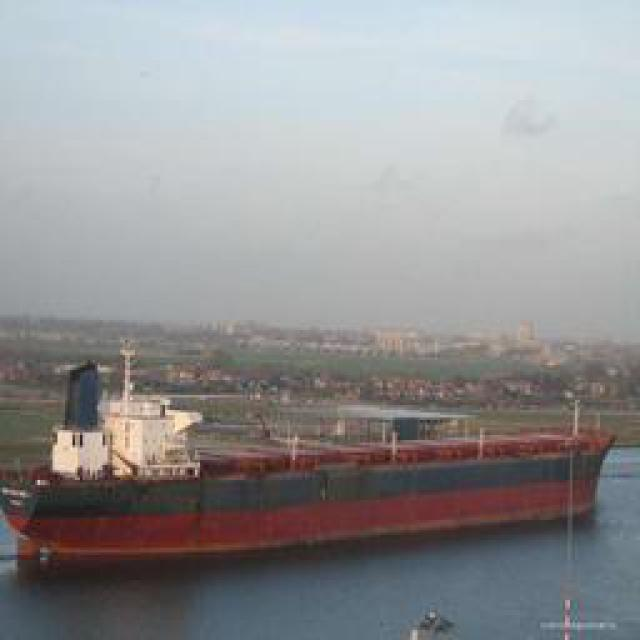Ship: (1, 397, 629, 570)
